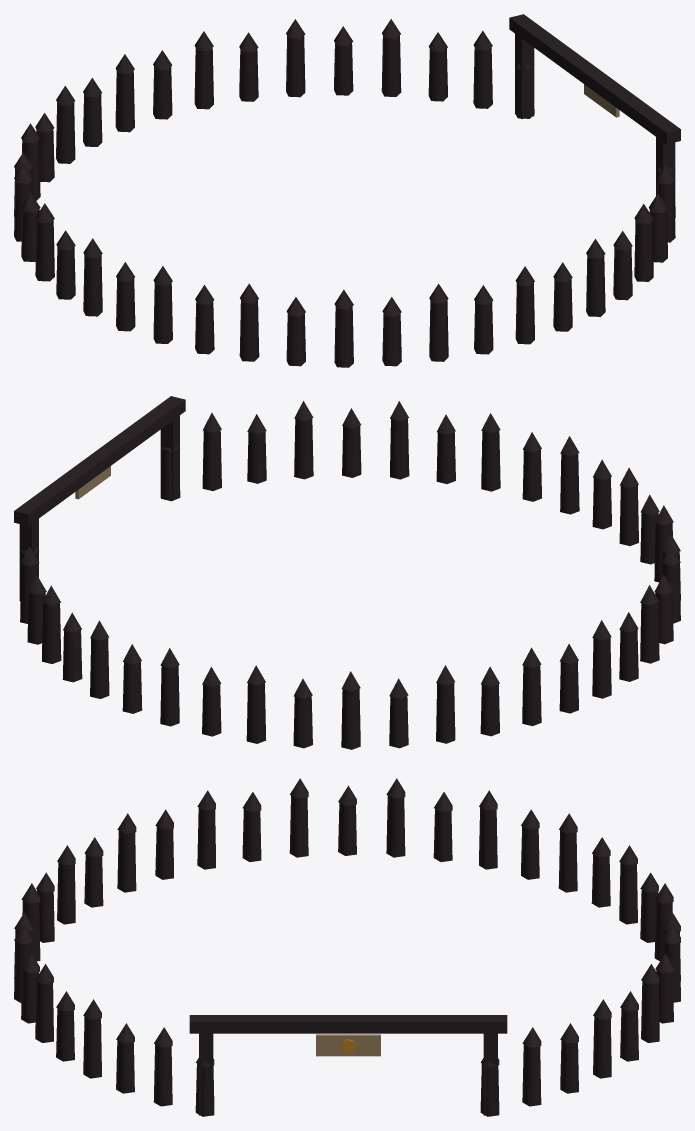
The model's file is base_merchant_walls_1.glb.
The picture shows the model from 3 angles, top to bottom: view 1: azimuth 30°, elevation 25°; view 2: azimuth 150°, elevation 25°; view 3: azimuth 270°, elevation 25°; orthographic projection.
Visible parts, largest first — view 1: gate_beam, palisade_11, palisade_17, palisade_19, palisade_31, palisade_3, palisade_5, palisade_27, palisade_1, palisade_29, palisade_33, palisade_25 (+26 smaller); view 2: gate_beam, palisade_15, palisade_17, palisade_19, palisade_27, palisade_29, palisade_5, palisade_7, palisade_13, palisade_33, palisade_11, palisade_3 (+26 smaller); view 3: gate_beam, gate_sign, palisade_17, palisade_23, palisade_1, palisade_33, palisade_19, palisade_21, palisade_3, palisade_11, palisade_13, palisade_25 (+27 smaller).
Boxes of the visible parts, bbox=[...] form: gate_beam: bbox=[509, 14, 680, 144]; palisade_11: bbox=[56, 102, 75, 163]; palisade_17: bbox=[35, 220, 54, 281]; palisade_19: bbox=[83, 255, 102, 316]; palisade_31: bbox=[586, 255, 605, 316]; palisade_3: bbox=[381, 35, 401, 96]; palisade_5: bbox=[286, 35, 305, 97]; palisade_27: bbox=[429, 300, 448, 361]; palisade_1: bbox=[473, 47, 492, 108]; palisade_29: bbox=[515, 283, 534, 344]; palisade_33: bbox=[634, 220, 653, 281]; palisade_25: bbox=[334, 306, 353, 367]; gate_beam: bbox=[14, 396, 185, 525]; palisade_15: bbox=[522, 665, 541, 726]; palisade_17: bbox=[592, 637, 611, 698]; palisade_19: bbox=[640, 602, 659, 663]; palisade_27: bbox=[560, 453, 579, 514]; palisade_29: bbox=[481, 430, 500, 491]; palisade_5: bbox=[90, 638, 109, 698]; palisade_7: bbox=[160, 665, 179, 726]; palisade_13: bbox=[436, 683, 455, 743]; palisade_33: bbox=[294, 418, 313, 479]; palisade_11: bbox=[341, 689, 360, 749]; palisade_3: bbox=[41, 603, 61, 663]; gate_beam: bbox=[189, 1015, 507, 1033]; gate_sign: bbox=[316, 1034, 380, 1056]; palisade_17: bbox=[386, 795, 405, 857]; palisade_23: bbox=[117, 830, 136, 892]; palisade_1: bbox=[522, 1044, 541, 1106]; palisade_33: bbox=[83, 1016, 101, 1078]; palisade_19: bbox=[289, 795, 308, 857]; palisade_21: bbox=[197, 807, 215, 869]; palisade_3: bbox=[593, 1016, 611, 1078]; palisade_11: bbox=[619, 862, 637, 924]; palisade_13: bbox=[558, 830, 577, 892]; palisade_25: bbox=[57, 862, 75, 924].
Size of the model in its own units: 0.9826 by 0.16 by 1.03.
